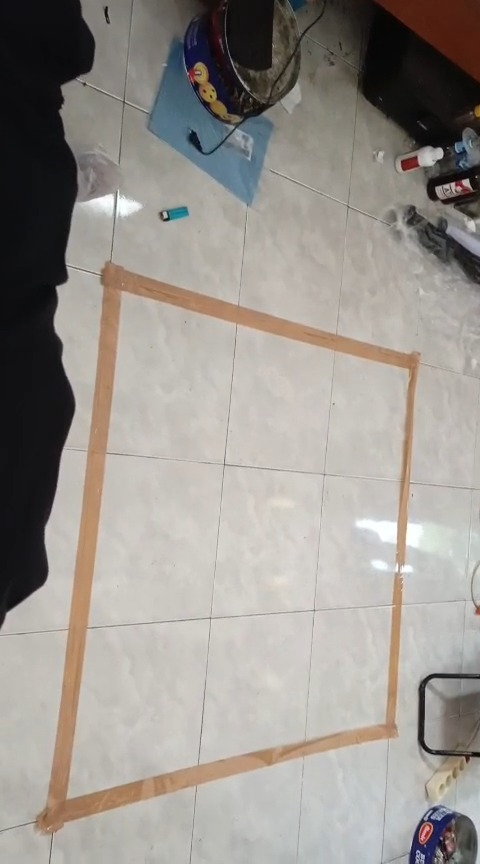floor marking: (37, 262, 418, 832)
